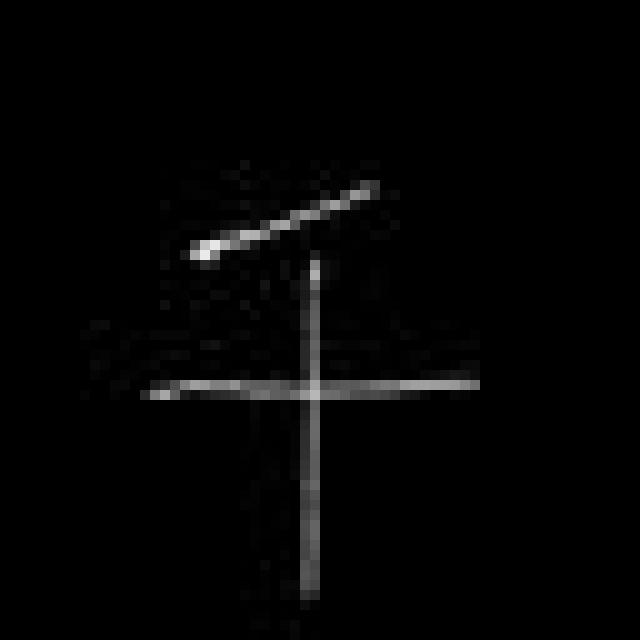1000 -a thousand-: (133, 169, 494, 605)
